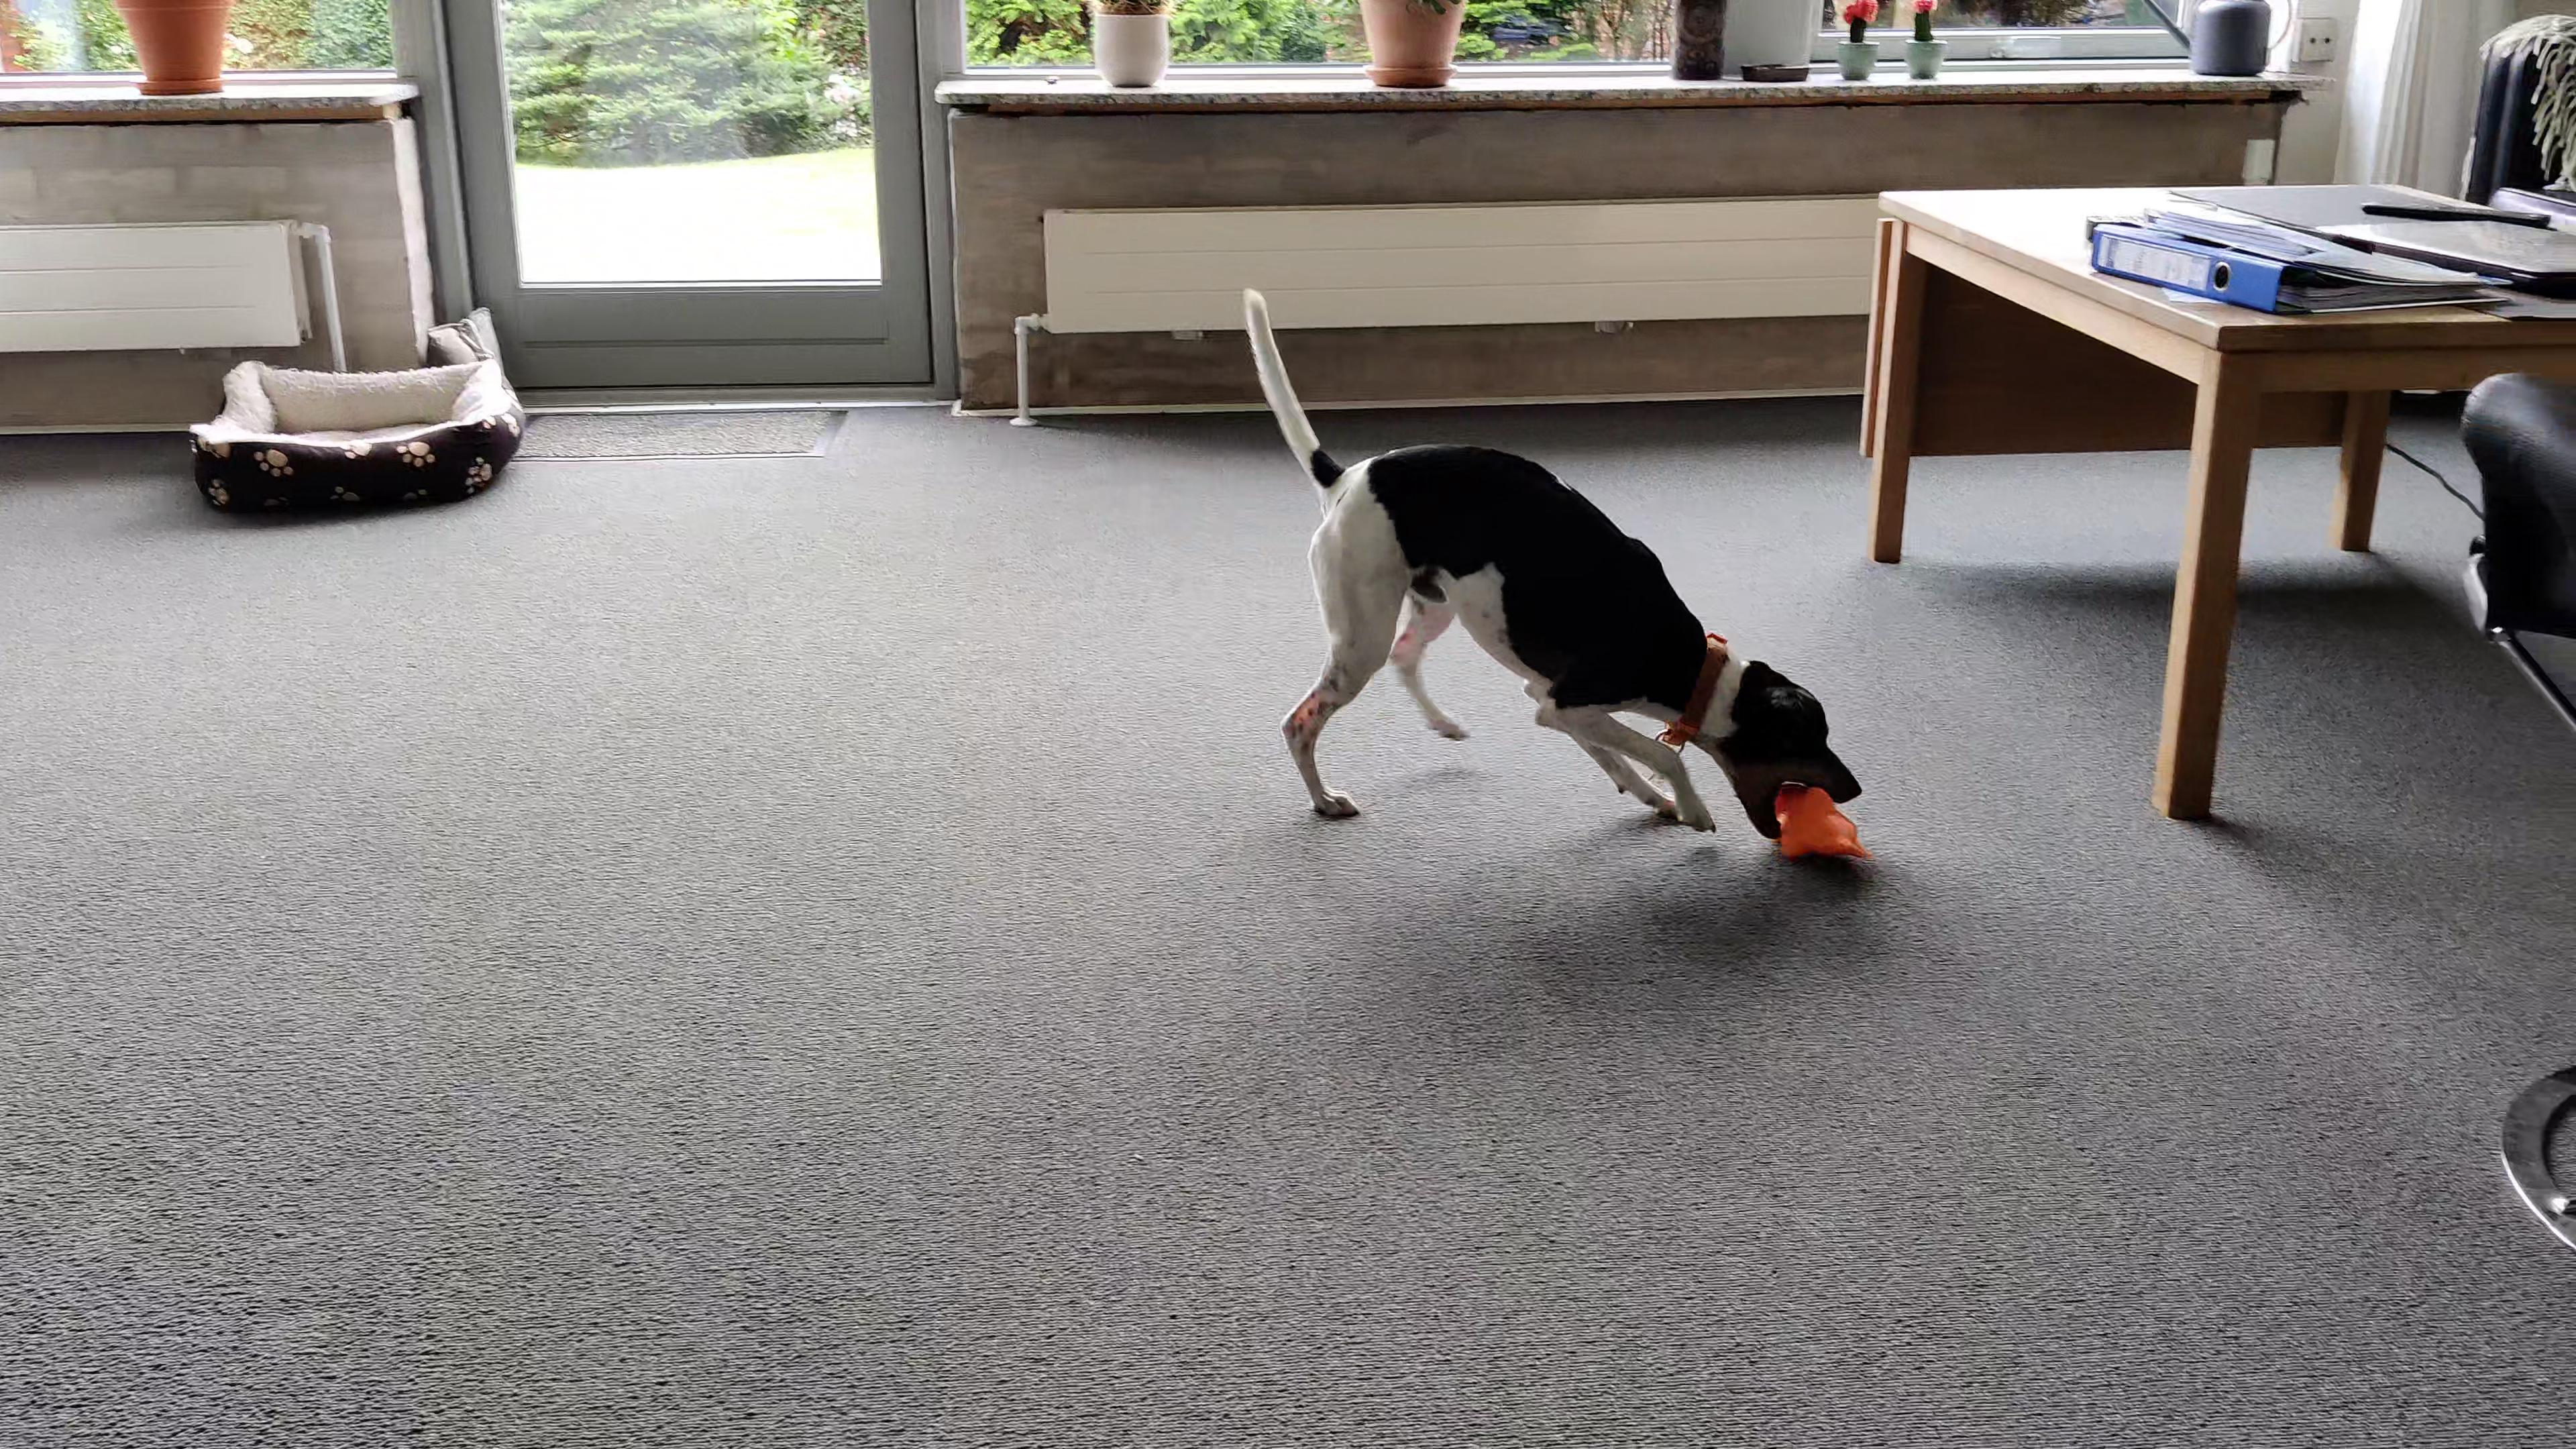Dog: (1223, 265, 1874, 869)
